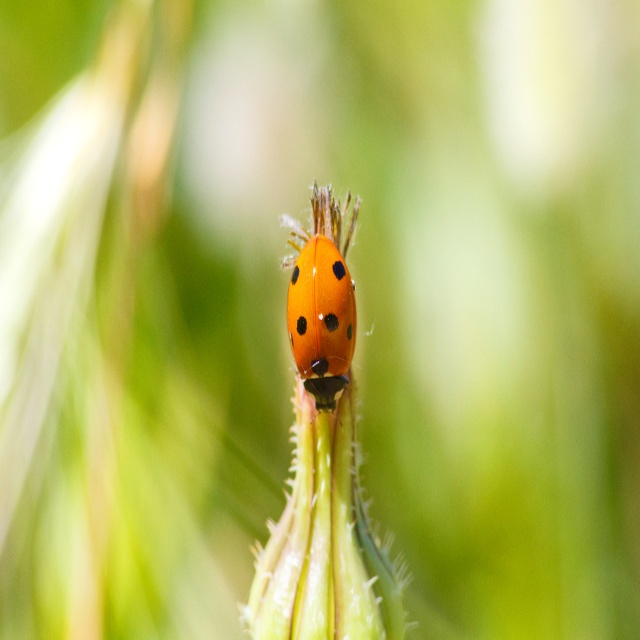Ladybug: (286, 232, 357, 429)
